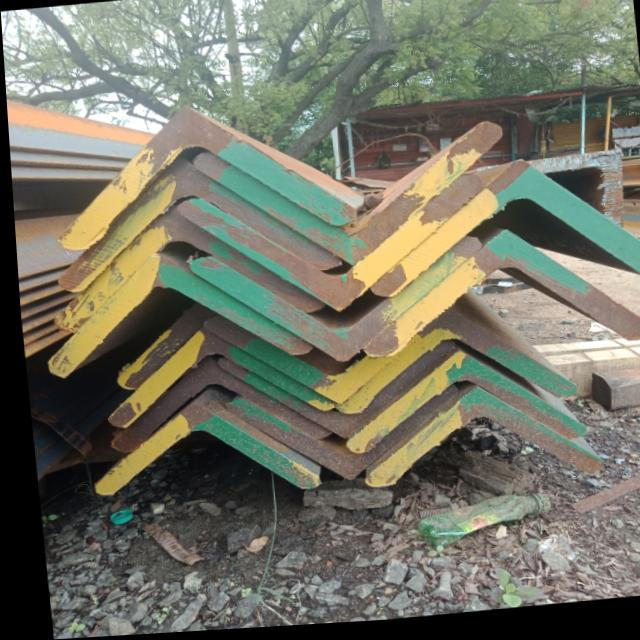metal-angles: (191, 128, 499, 270), (54, 108, 353, 249), (174, 181, 481, 316), (53, 160, 335, 292), (366, 167, 640, 300), (187, 242, 479, 366), (358, 235, 640, 361), (49, 208, 320, 331), (41, 255, 307, 378), (329, 313, 571, 417), (342, 356, 580, 456), (212, 345, 450, 443), (360, 392, 594, 491), (101, 330, 331, 428), (220, 390, 453, 485), (88, 404, 311, 496), (105, 361, 325, 453), (198, 318, 389, 406)
